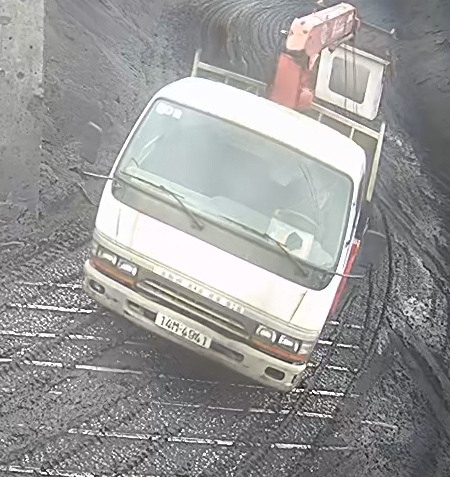vehicle plate: (153, 308, 213, 355)
